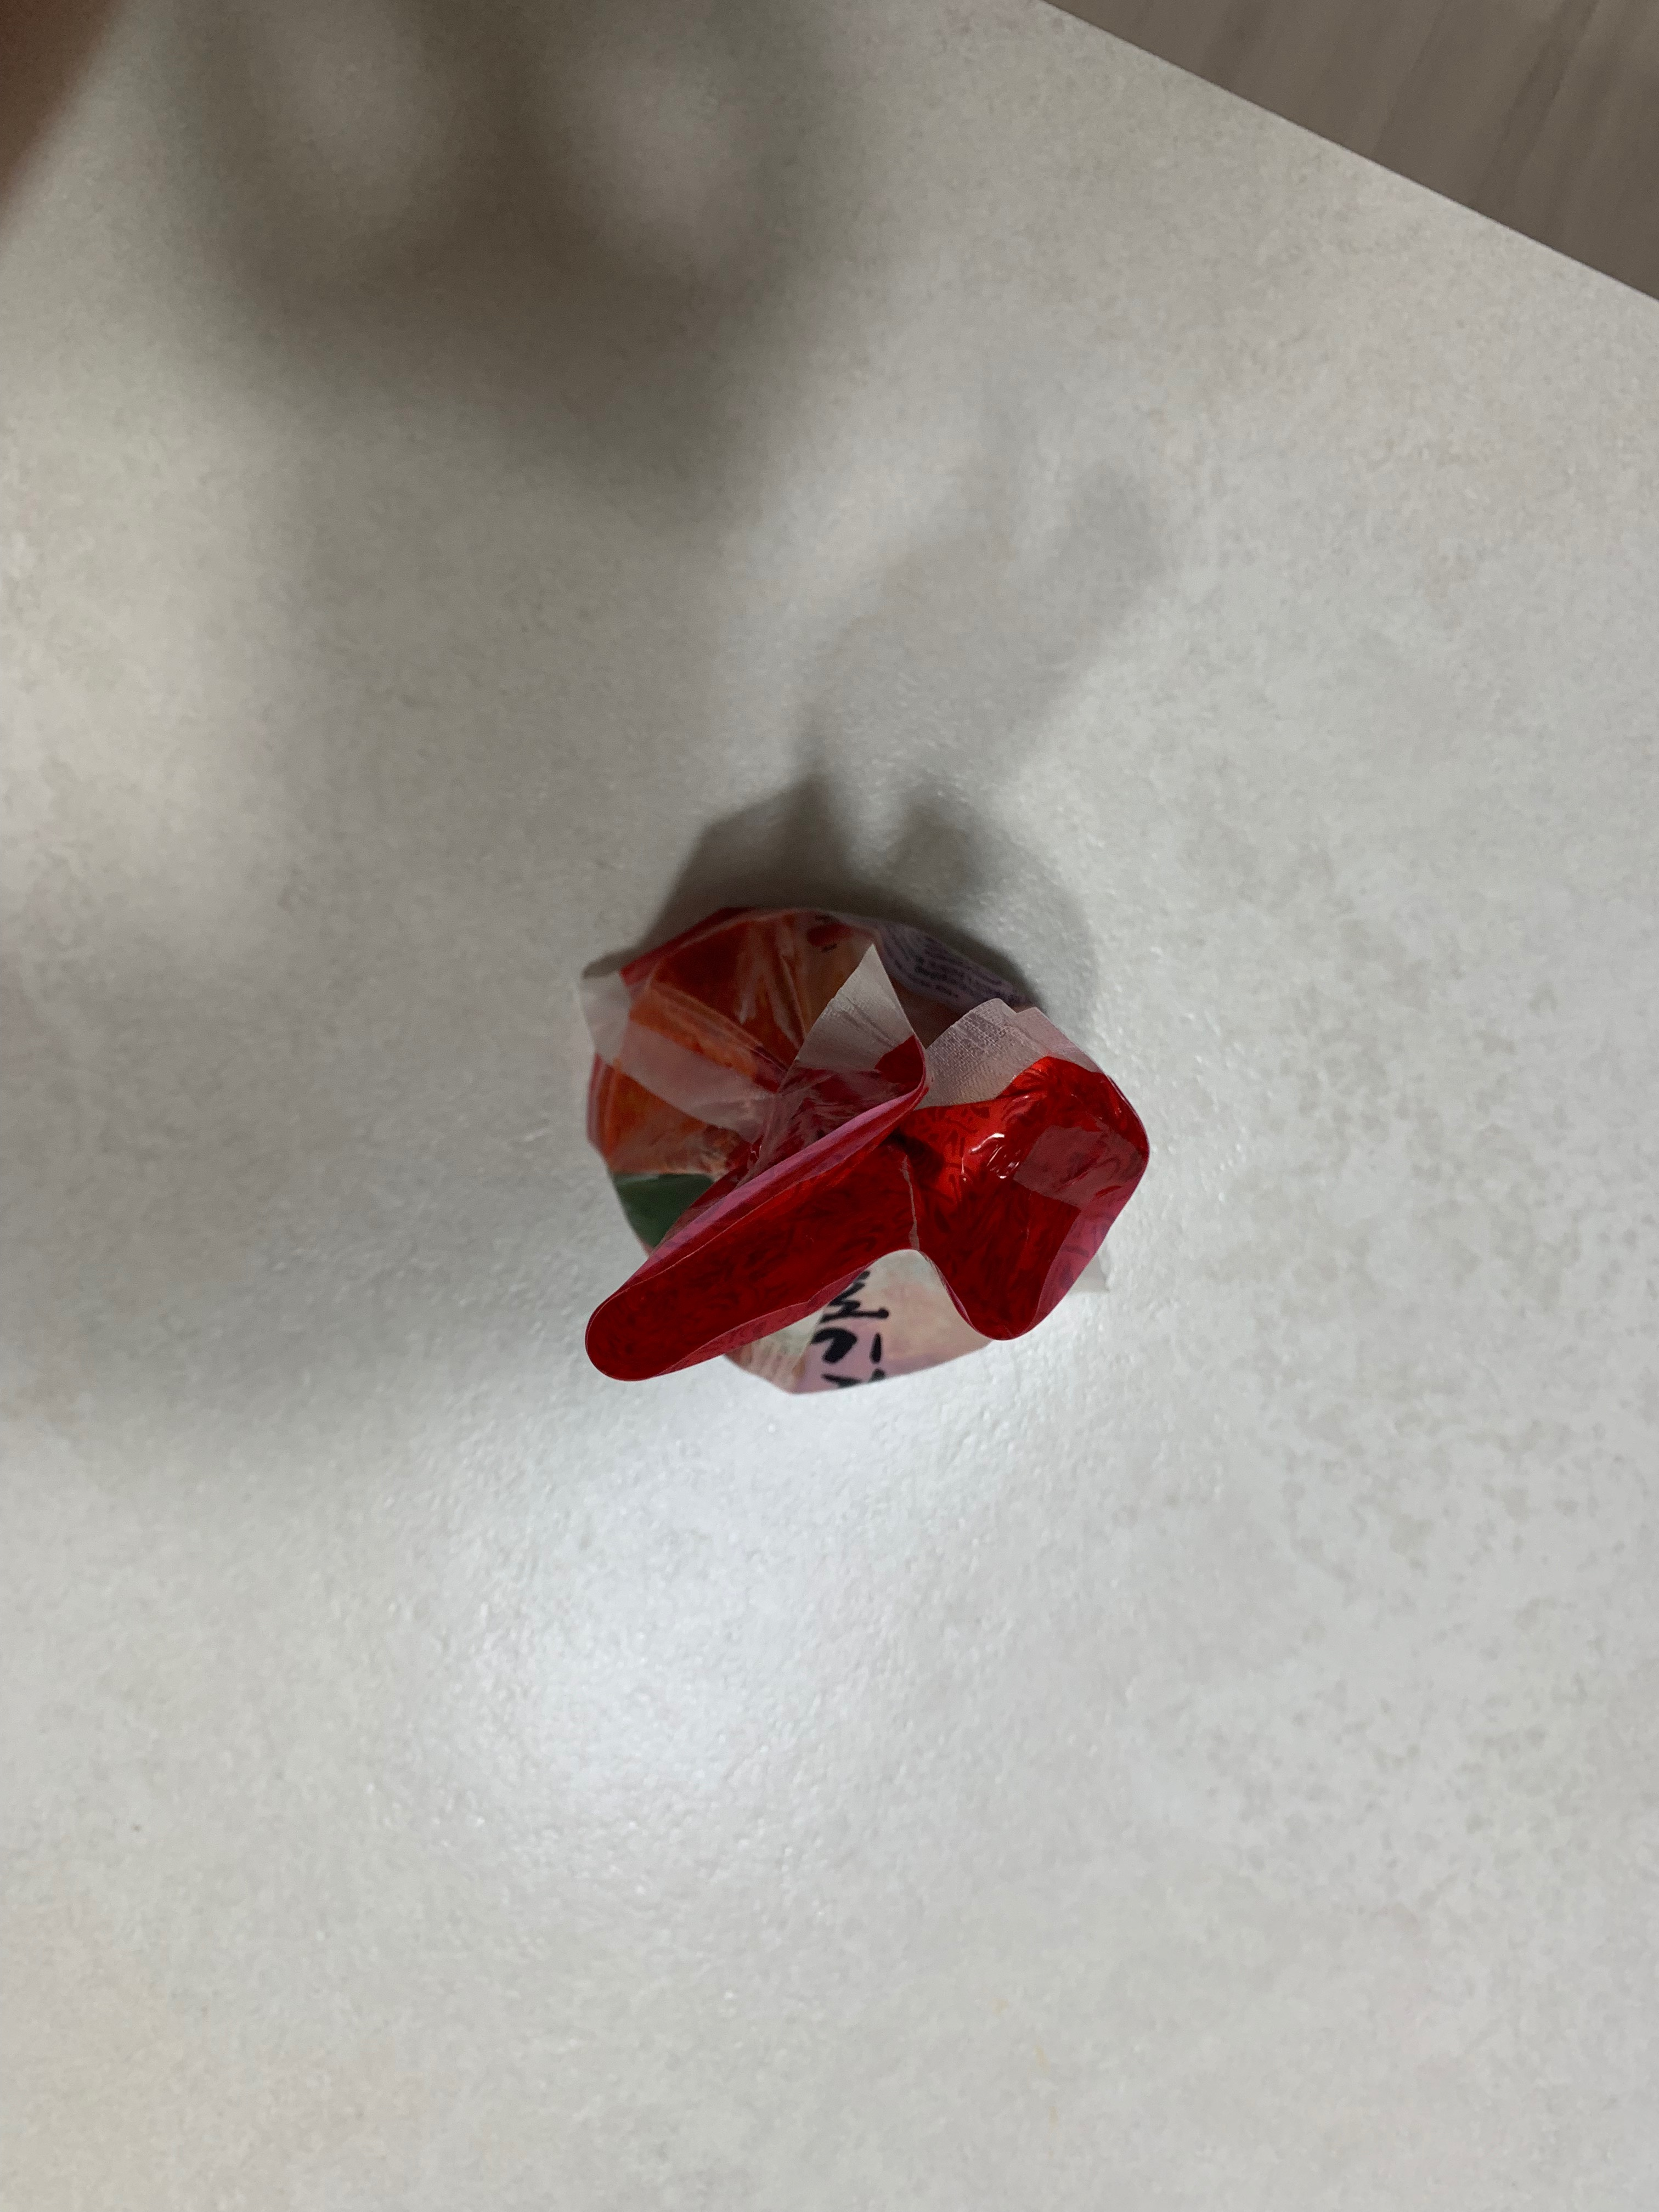kimchi: (582, 897, 1150, 1397)
